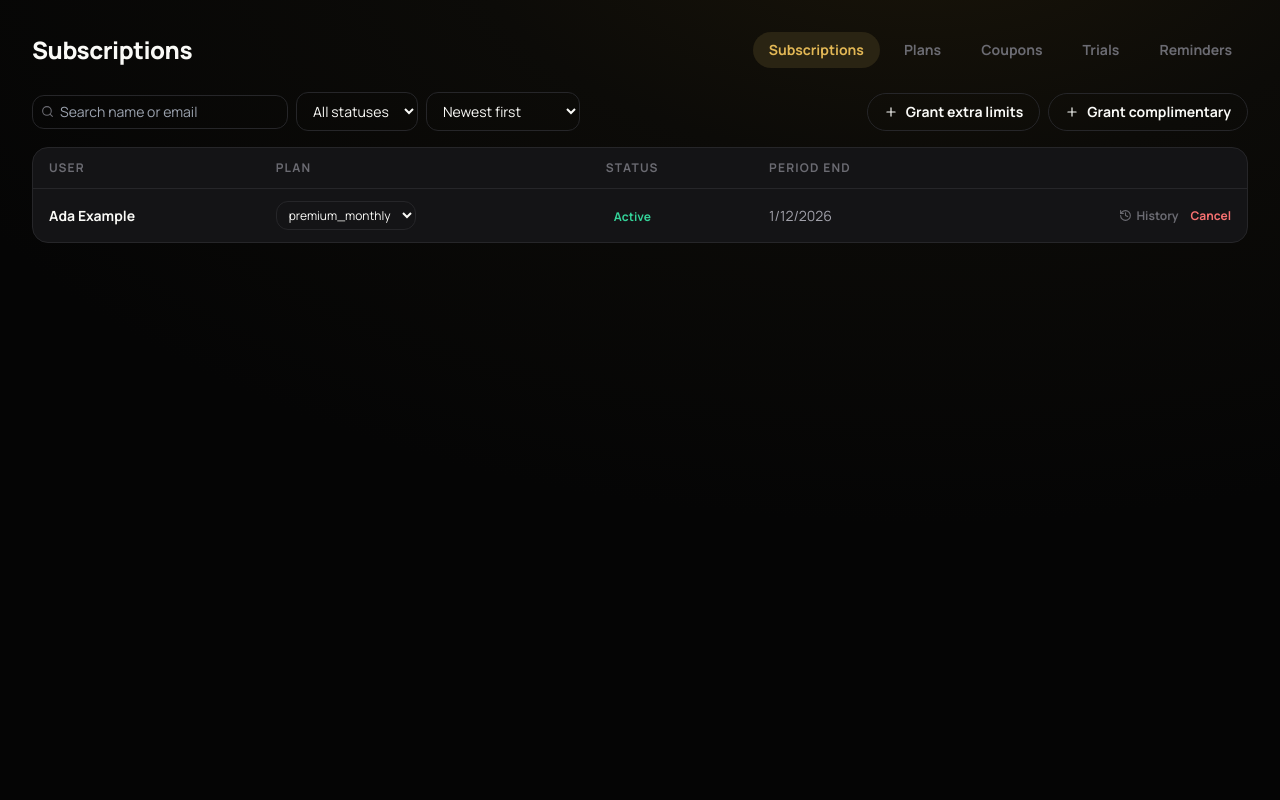
Test case: Subscriptions (admin) › publishing a plan to Razorpay prompts for step-up
Expected: the table with test id "admin-subscriptions-table" is shown, x1=33 y1=148 x2=1247 y2=242
Click the button with test id "admin-subscriptions-tab-plans" at (923, 50), box x1=888 y1=32 x2=957 y2=68
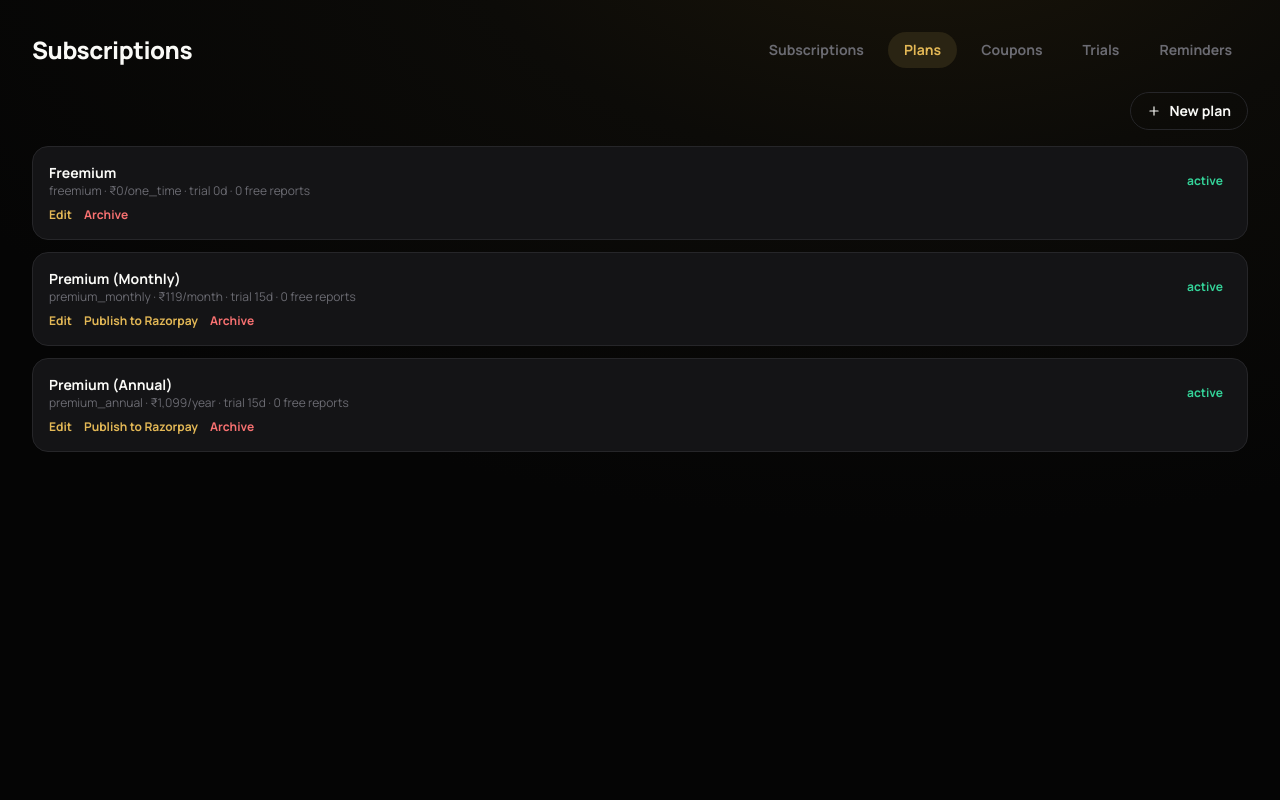
Click the button with test id "admin-plans-publish-btn-p2" at (141, 321), box x1=84 y1=313 x2=198 y2=329
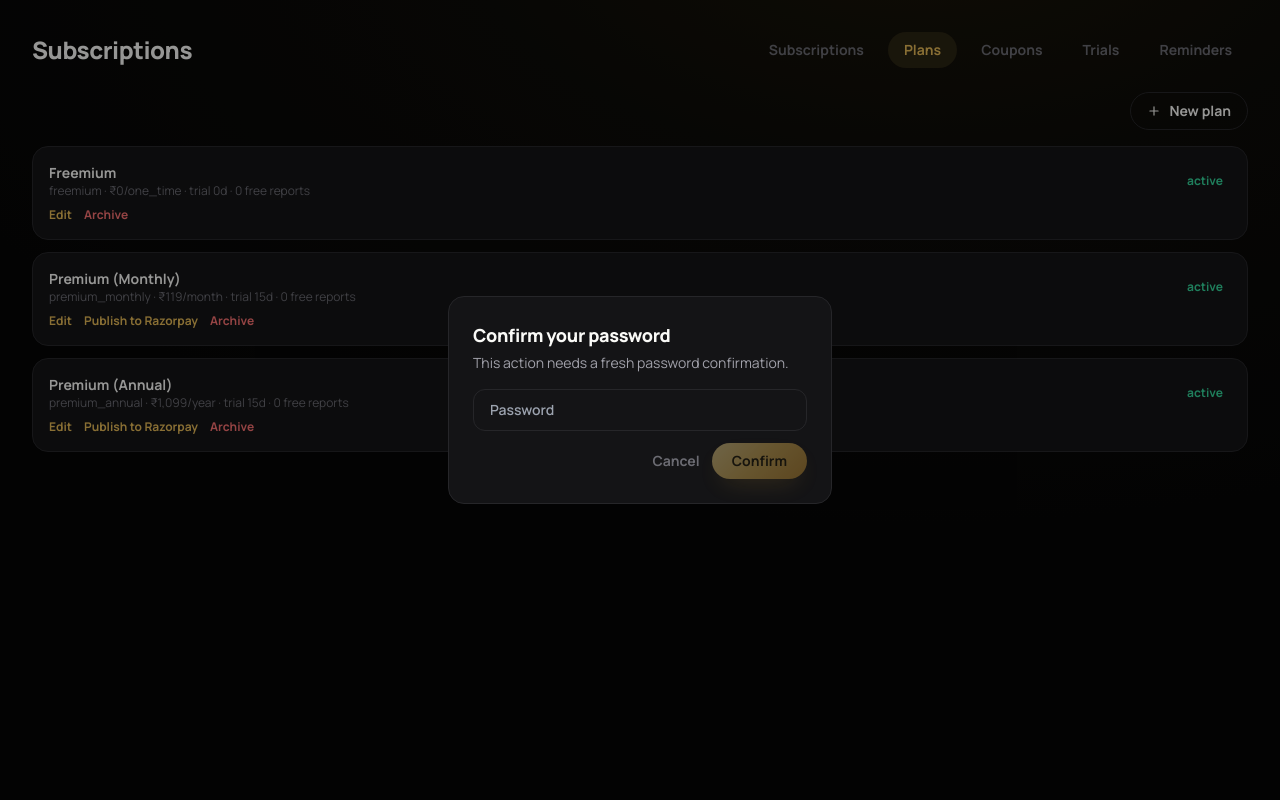
Now the element with test id "admin-stepup-modal" is shown
